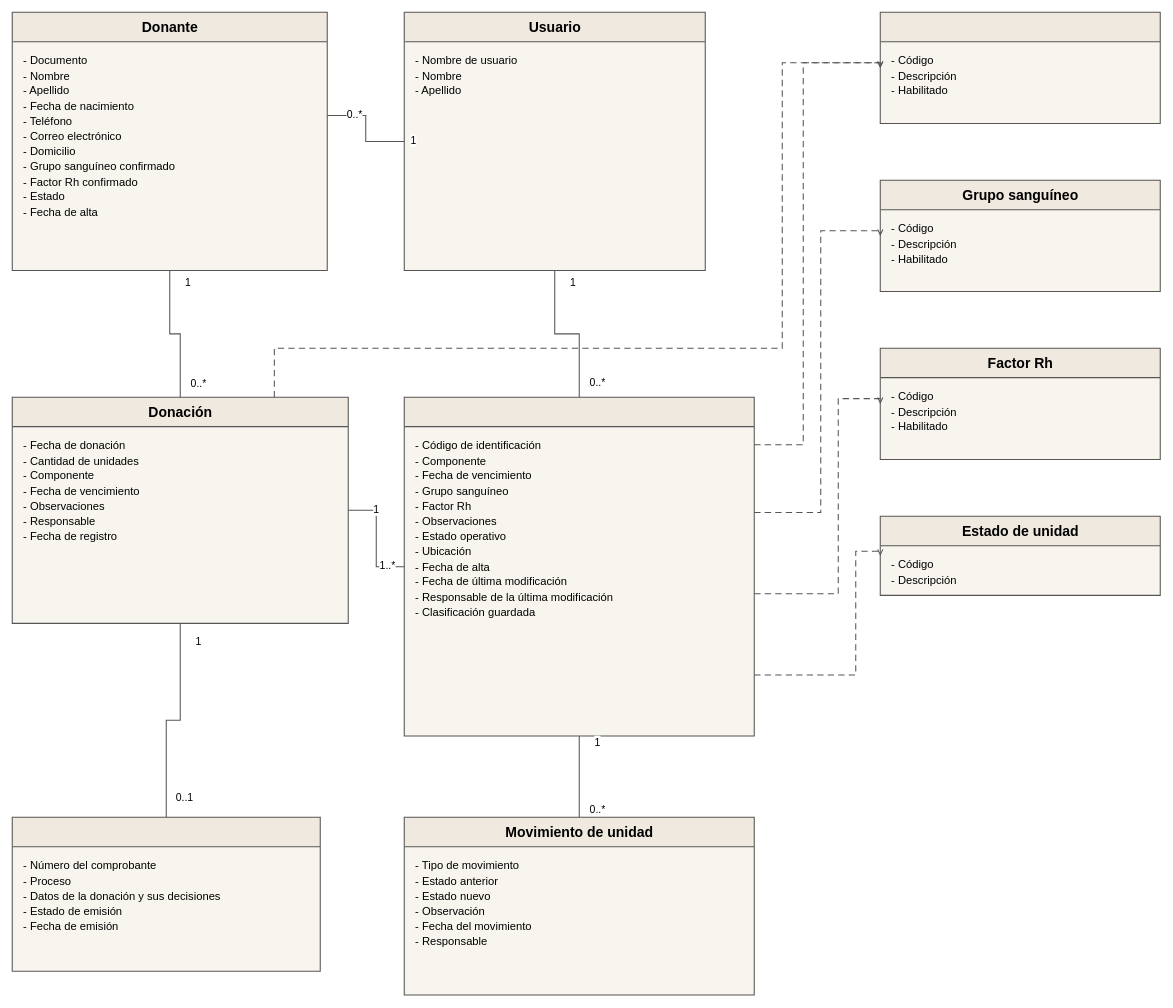
This 1173x1008 diagram has some shape labels left out. The box of each missing label's shape, as (x1, y1, x2, y2) in pixels:
Componente transfusional: (879, 11, 1160, 124)
Comprobante de donación: (11, 816, 320, 971)
Unidad: (403, 396, 754, 736)
